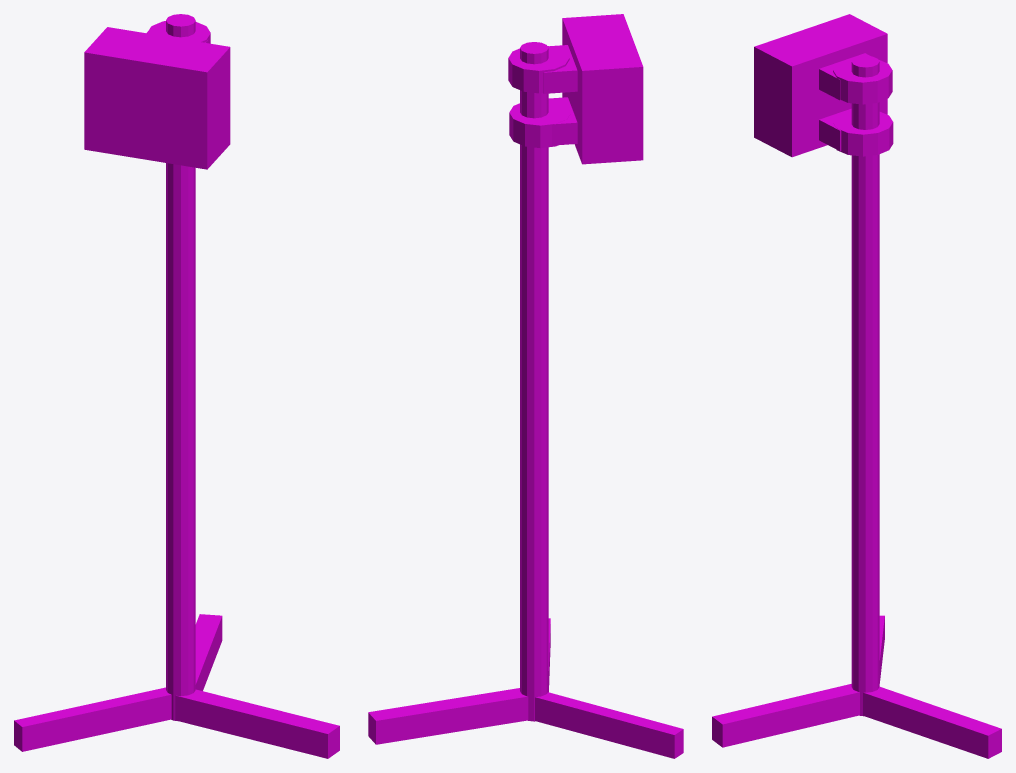
Rendered from SM_MachineBCollider.fbx.
3 renders of one model, left to right at view 1: azimuth 30°, elevation 25°; view 2: azimuth 150°, elevation 25°; view 3: azimuth 270°, elevation 25°, orthographic. The views are drawn at different scales.
Parts seen in each view (by area): view 1: MachineBCollision; view 2: MachineBCollision; view 3: MachineBCollision.
Boxes of the visible parts, x1,y1,x2,y2 form: MachineBCollision: (14, 14, 339, 758); MachineBCollision: (368, 14, 683, 758); MachineBCollision: (712, 14, 1001, 758).
Size of the model in its own units: 69.4 by 174 by 70.53.
